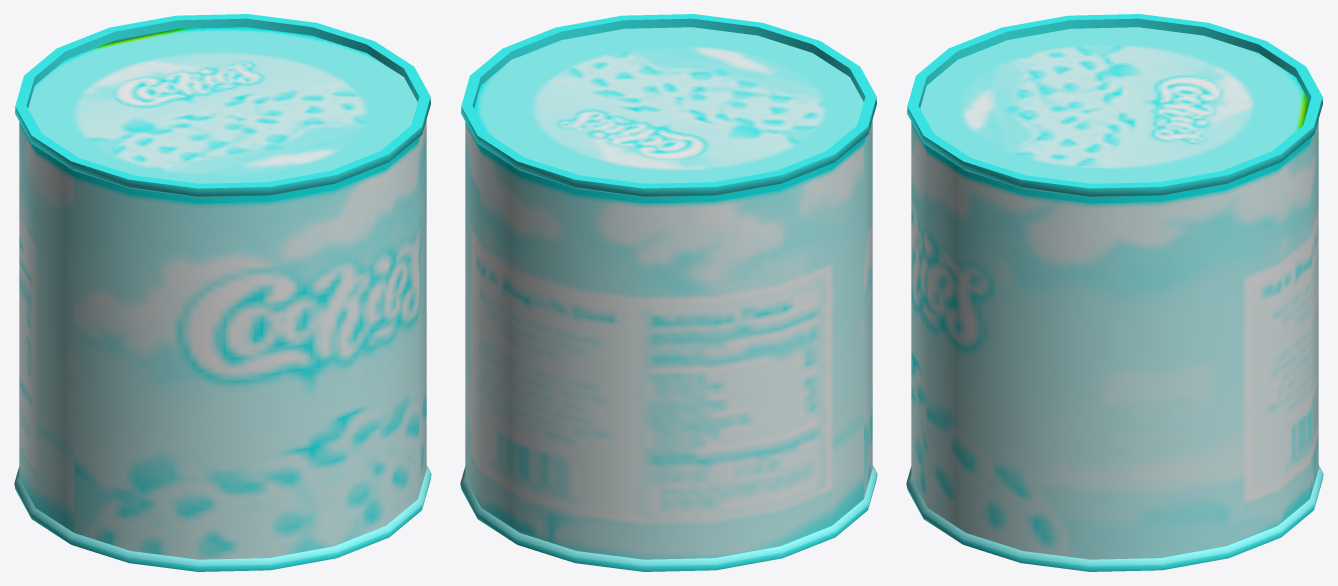
File: Cookies_Can_HP.fbx
3 views of the same model, side by side, from view 1: azimuth 30°, elevation 25°; view 2: azimuth 150°, elevation 25°; view 3: azimuth 270°, elevation 25° (orthographic).
Parts seen in each view (by area): view 1: Cookies_Can_HP; view 2: Cookies_Can_HP; view 3: Cookies_Can_HP.
Boxes of the visible parts, bbox=[...] form: Cookies_Can_HP: bbox=[14, 14, 431, 571]; Cookies_Can_HP: bbox=[460, 14, 877, 571]; Cookies_Can_HP: bbox=[906, 14, 1323, 571].
Bounding box in the file's own units: 0.3147 × 0.3209 × 0.3165.
